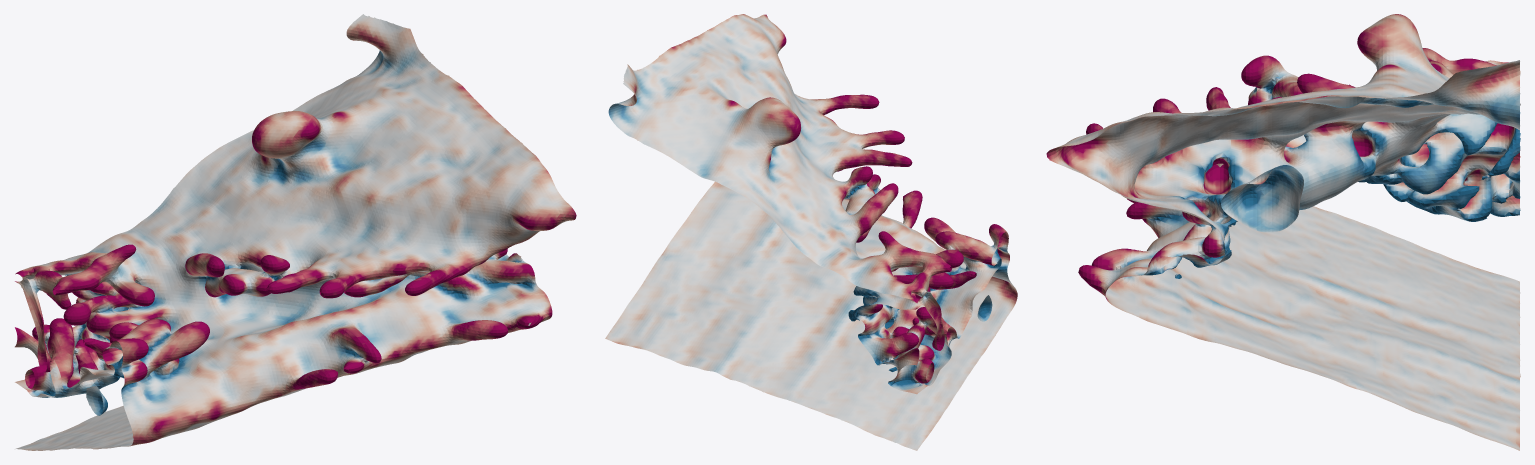
Rendered from crop1073_deviation.glb.
3 renders of one model, left to right at view 1: azimuth 30°, elevation 25°; view 2: azimuth 150°, elevation 25°; view 3: azimuth 270°, elevation 25°, orthographic. The views are drawn at different scales.
Visible parts, largest first — view 1: world; view 2: world; view 3: world.
Part boxes in pixels (x1,y1,x2,y2): world: [15, 14, 576, 450]; world: [605, 14, 1017, 450]; world: [1046, 14, 1520, 450].
Bounding box in the file's own units: 2280 × 2057 × 2052.
